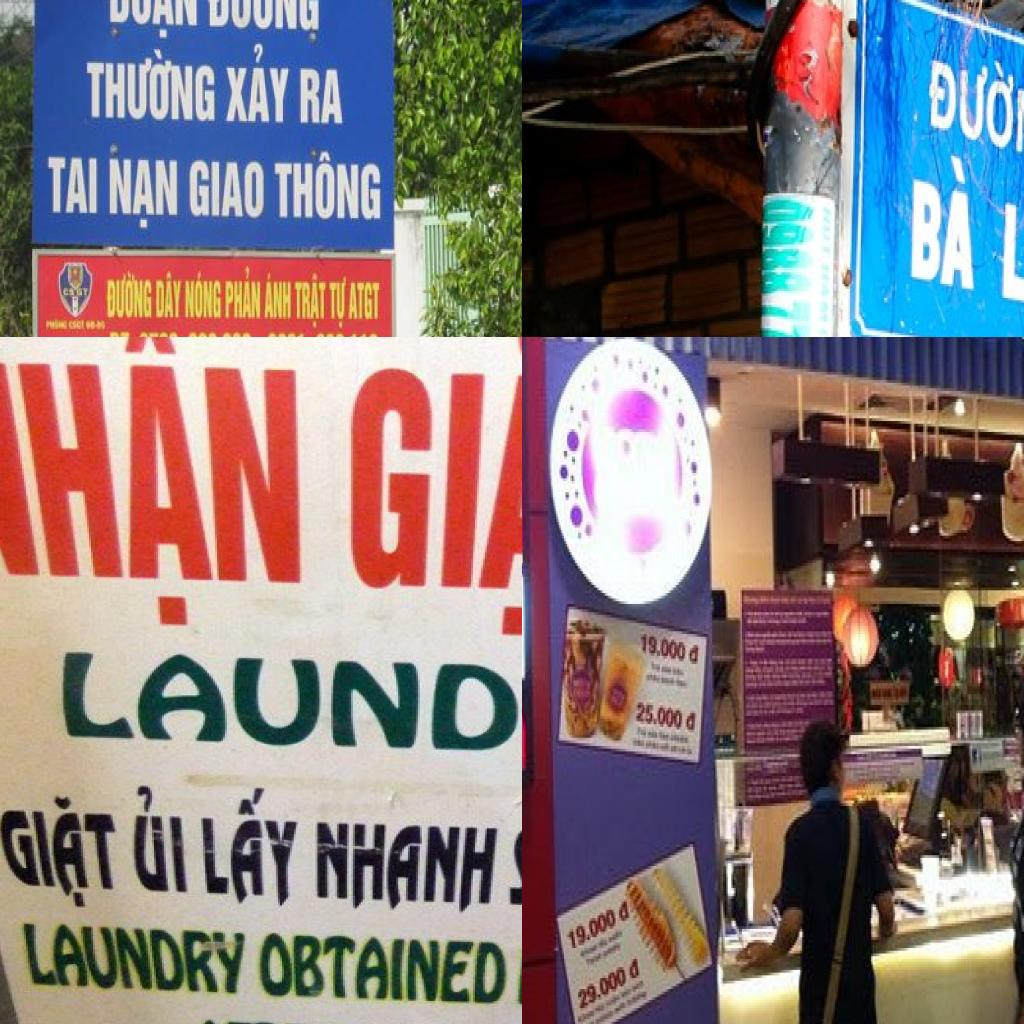text: (0, 337, 307, 639), (325, 337, 522, 658), (44, 642, 522, 763), (256, 930, 512, 1010), (308, 819, 502, 918), (18, 920, 253, 996), (0, 790, 120, 908), (194, 786, 306, 910), (926, 42, 1024, 174), (910, 142, 979, 298), (83, 46, 218, 124), (270, 148, 383, 225), (760, 200, 816, 337), (126, 785, 190, 896), (224, 41, 295, 126), (109, 158, 178, 234), (186, 160, 265, 223), (206, 0, 321, 37), (577, 956, 641, 1016), (106, 0, 200, 40), (566, 899, 632, 953), (46, 157, 100, 220), (1002, 170, 1024, 316), (300, 68, 346, 129), (633, 697, 698, 735), (105, 270, 154, 320), (638, 631, 701, 667), (223, 264, 264, 319), (498, 825, 522, 918), (180, 270, 222, 322), (293, 271, 328, 333), (265, 268, 295, 320), (349, 281, 383, 324), (156, 271, 184, 321), (329, 275, 348, 334), (139, 330, 253, 337), (64, 286, 90, 298)
